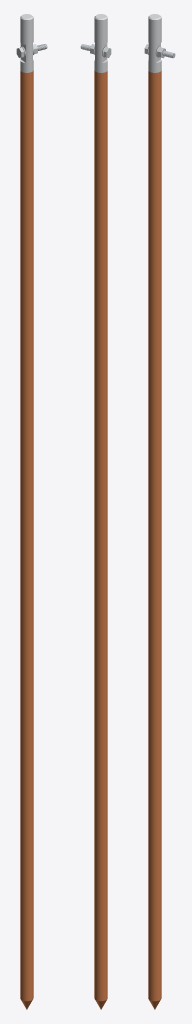
The model's file is copper-bonded-earth-rod.glb.
3 renders of one model, left to right at view 1: azimuth 30°, elevation 25°; view 2: azimuth 150°, elevation 25°; view 3: azimuth 330°, elevation 25°, orthographic.
Parts seen in each view (by area): view 1: copperBody, tinnedUpper, pressedFlat, tinnedLower; view 2: copperBody, tinnedUpper, pressedFlat, tinnedLower; view 3: copperBody, tinnedUpper, pressedFlat, tinnedLower.
Boxes of the visible parts, x1,y1,x2,y2 form: copperBody: (20,70,33,1001); tinnedUpper: (20,17,33,44); pressedFlat: (20,43,32,62); tinnedLower: (20,59,33,72); copperBody: (94,70,107,1001); tinnedUpper: (94,17,107,44); pressedFlat: (95,43,107,62); tinnedLower: (94,59,107,72); copperBody: (148,70,161,1001); tinnedUpper: (148,17,161,44); pressedFlat: (148,43,160,62); tinnedLower: (148,59,161,72).
Bounding box in the file's own units: 0.0345 × 1.2 × 0.0145.
